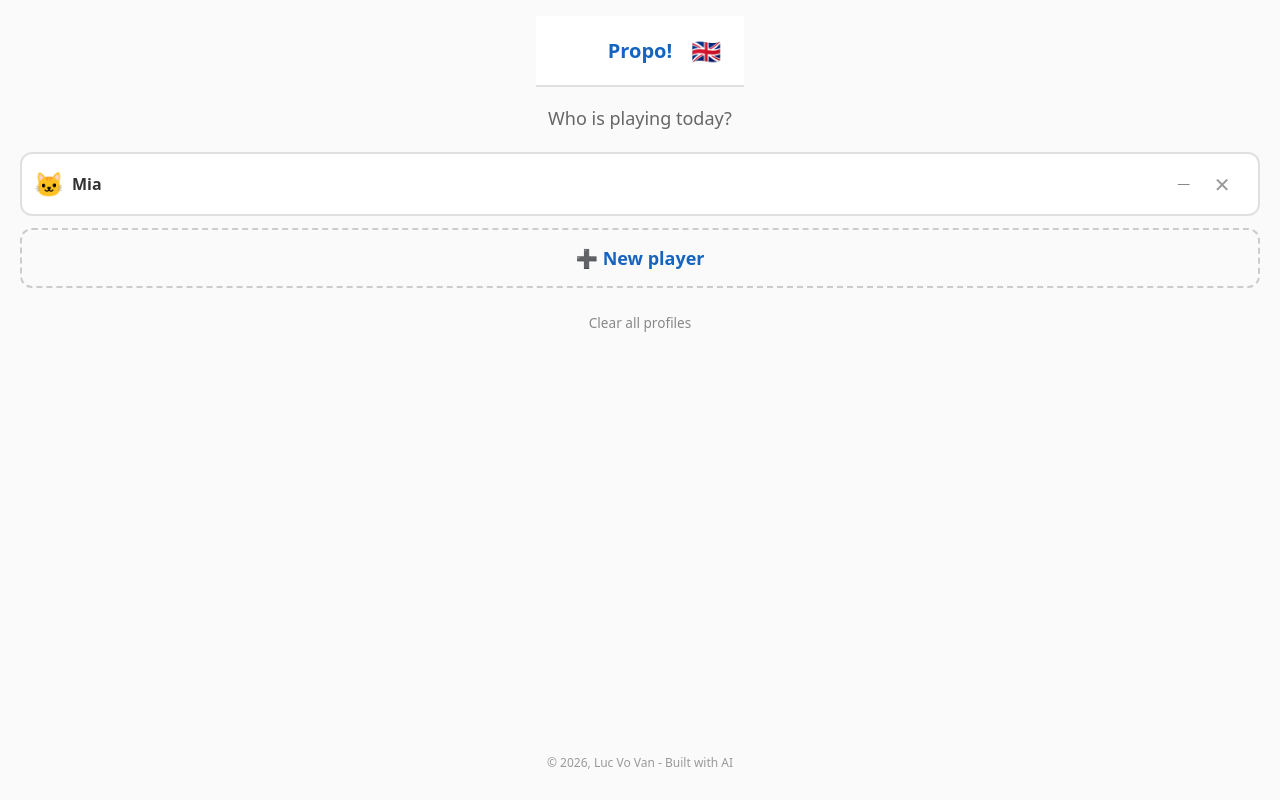
Scenario: WelcomePage (returning player flow) › shows NewPlayerForm when "New player" is clicked
Click the button "➕ New player" at (640, 258), box left=20, top=228, right=1260, bottom=288
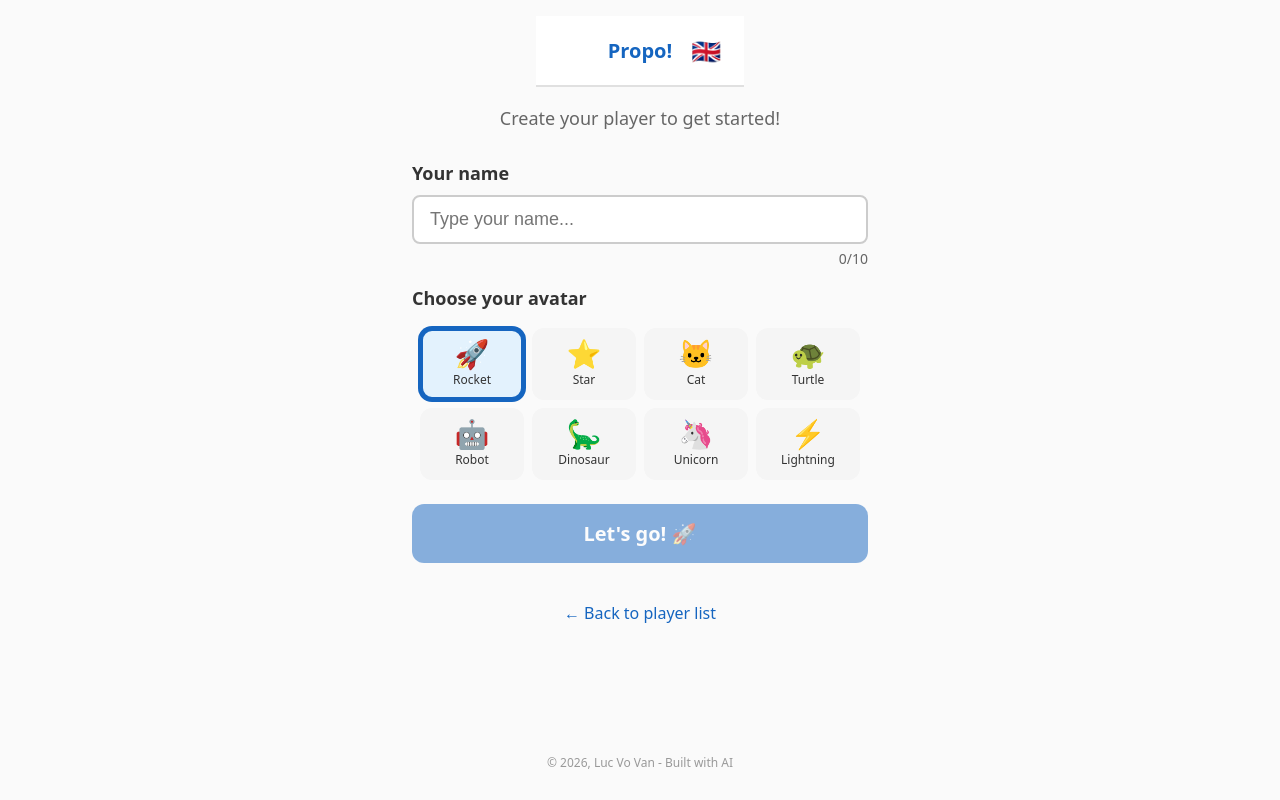
Expected: the field labelled "Your name" is shown, left=412, top=195, right=868, bottom=244
